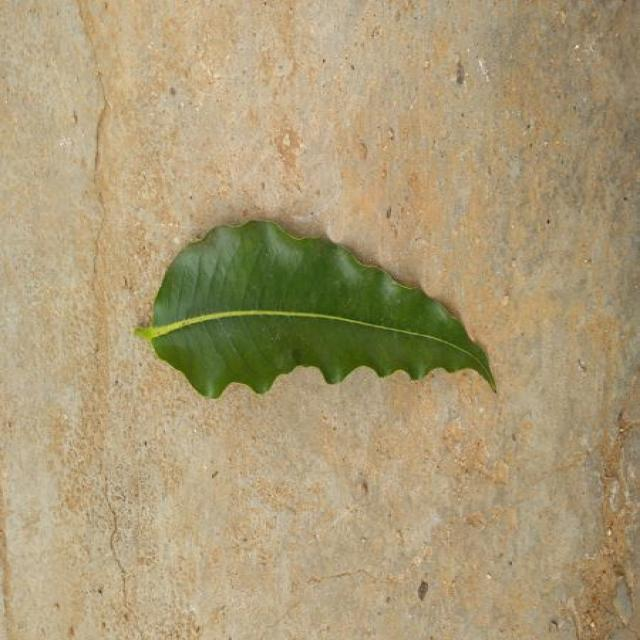ashoka: (137, 221, 495, 398)
